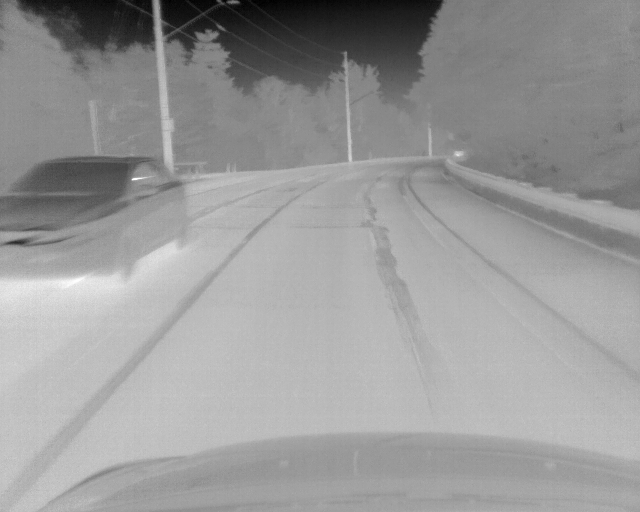car: (1, 156, 188, 281)
